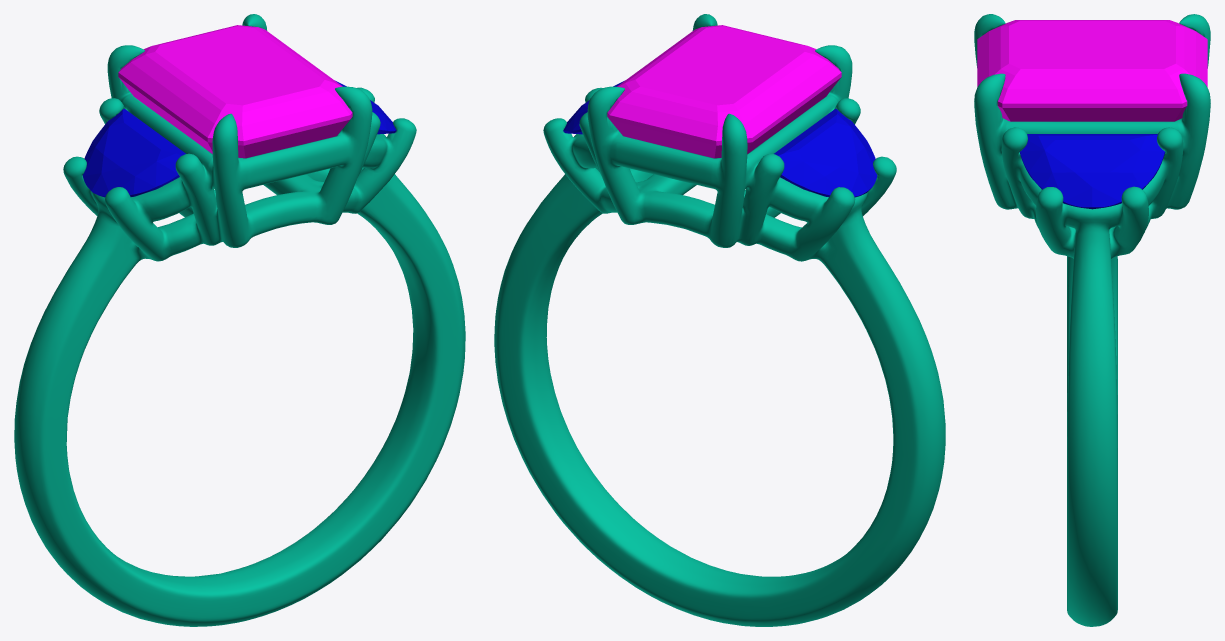
Rendered from BE1D354_EM_200ct_RENDER.glb.
3 renders of one model, left to right at view 1: azimuth 30°, elevation 25°; view 2: azimuth 150°, elevation 25°; view 3: azimuth 270°, elevation 25°, orthographic.
Visible parts, largest first — view 1: Metal 01, CS_Diamond_Emerald, Diamond_Marquise_side.001; view 2: Metal 01, CS_Diamond_Emerald, Diamond_Marquise_side.001; view 3: Metal 01, CS_Diamond_Emerald, Diamond_Marquise_side.
Part boxes in pixels (x1,y1,x2,y2): Metal 01: (14,14,465,626); CS_Diamond_Emerald: (118,25,352,158); Diamond_Marquise_side.001: (82,108,185,197); Metal 01: (494,14,945,626); CS_Diamond_Emerald: (607,25,841,158); Diamond_Marquise_side.001: (774,108,877,197); Metal 01: (974,14,1210,626); CS_Diamond_Emerald: (977,20,1207,121); Diamond_Marquise_side: (1019,134,1165,209).
Bounding box in the file's own units: 20.16 × 24.03 × 9.24.
